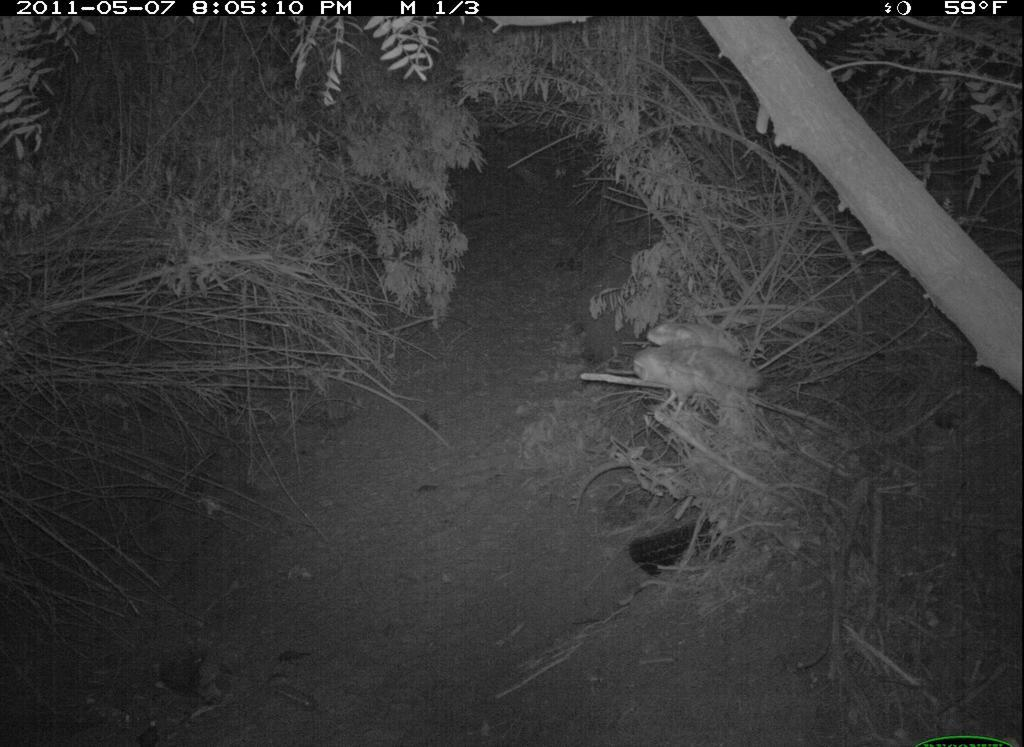bird: (623, 314, 788, 425)
